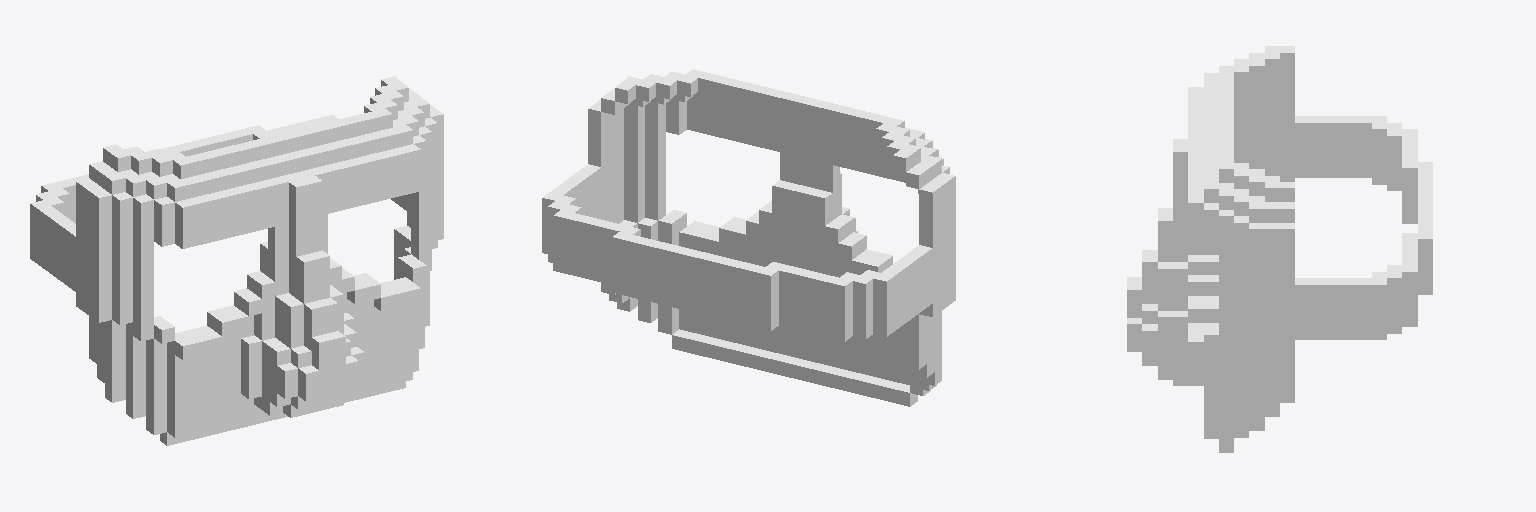
File: Mascara_Oculos.obj
3 renders of one model, left to right at view 1: azimuth 30°, elevation 25°; view 2: azimuth 150°, elevation 25°; view 3: azimuth 270°, elevation 25°, orthographic.
Visible parts, largest first — view 1: object 1; view 2: object 1; view 3: object 1.
Part boxes in pixels (left/top/right/bottom): object 1: left=30, top=76, right=443, bottom=445; object 1: left=542, top=69, right=955, bottom=406; object 1: left=1127, top=46, right=1432, bottom=452.
Size of the model in its own units: 2.6 by 2 by 2.